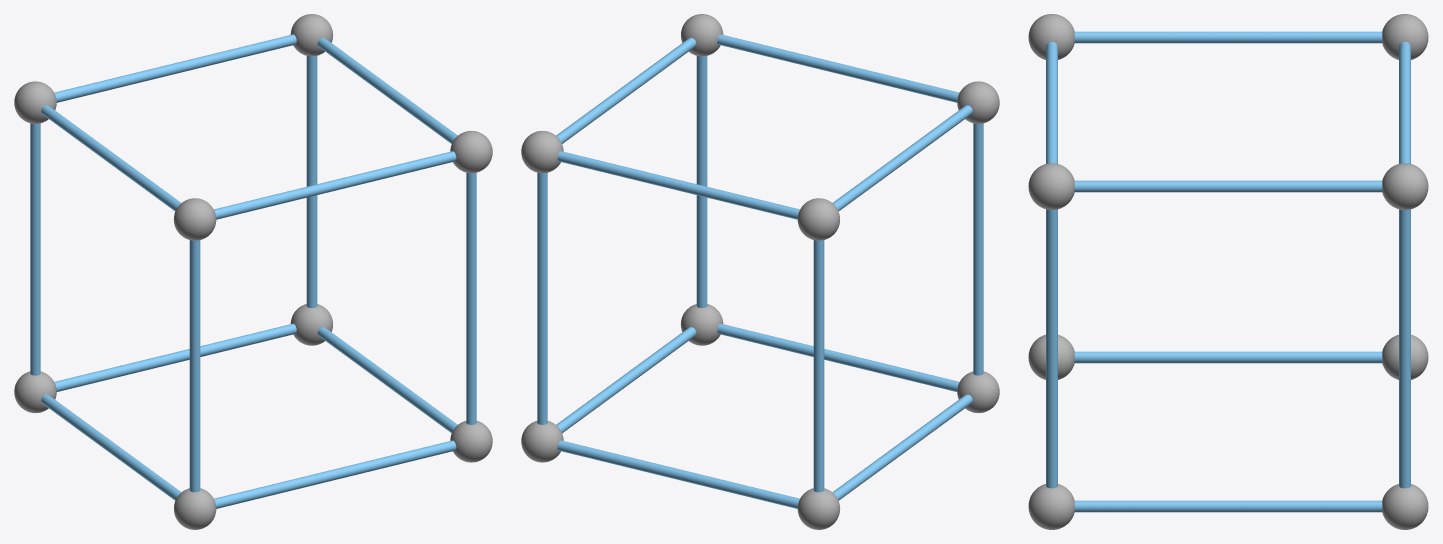
3 renders of one model, left to right at view 1: azimuth 30°, elevation 25°; view 2: azimuth 150°, elevation 25°; view 3: azimuth 270°, elevation 25°, orthographic. The views are drawn at different scales.
Bounding box in the file's own units: 5.78 × 5.78 × 5.78.
